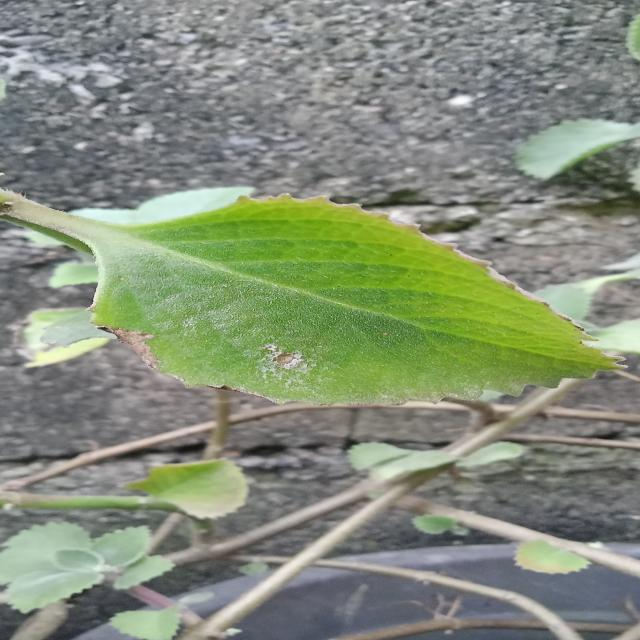Oregano: (76, 178, 640, 430)
